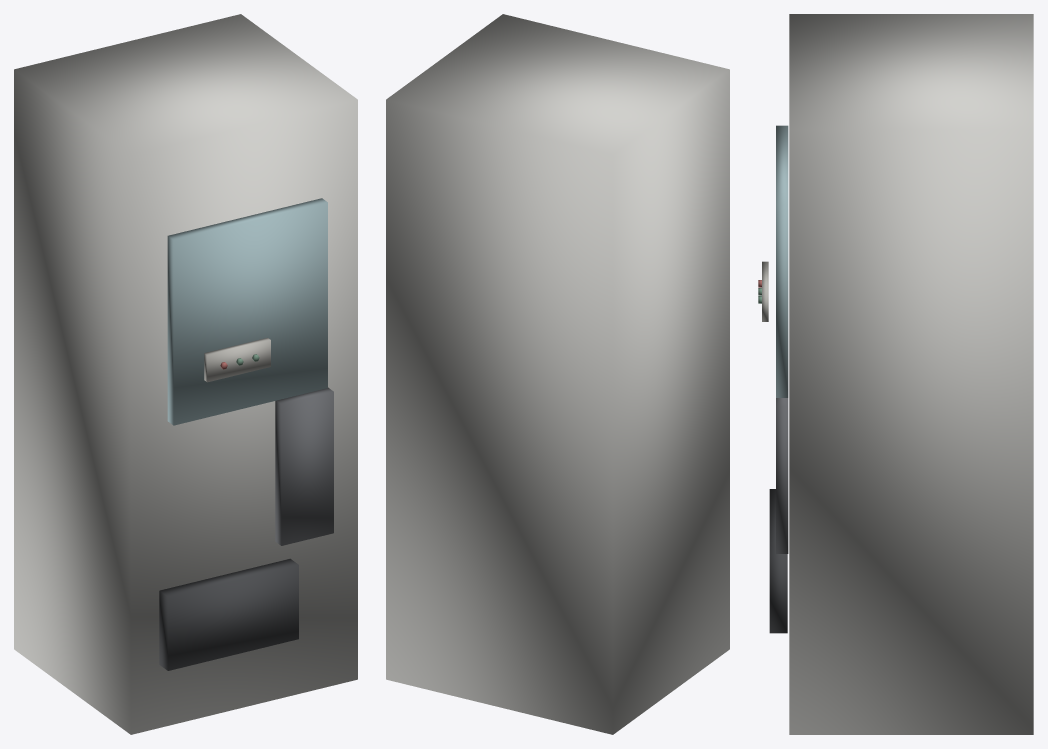
Rendered from snack_vending_machine__compact.glb.
3 renders of one model, left to right at view 1: azimuth 30°, elevation 25°; view 2: azimuth 150°, elevation 25°; view 3: azimuth 270°, elevation 25°, orthographic. The views are drawn at different scales.
Parts seen in each view (by area): view 1: world; view 2: world; view 3: world.
Boxes of the visible parts, bbox=[...] form: world: bbox=[14, 14, 357, 734]; world: bbox=[386, 14, 729, 734]; world: bbox=[758, 14, 1033, 734].
Bounding box in the file's own units: 0.6552 × 1.6 × 0.6588.
